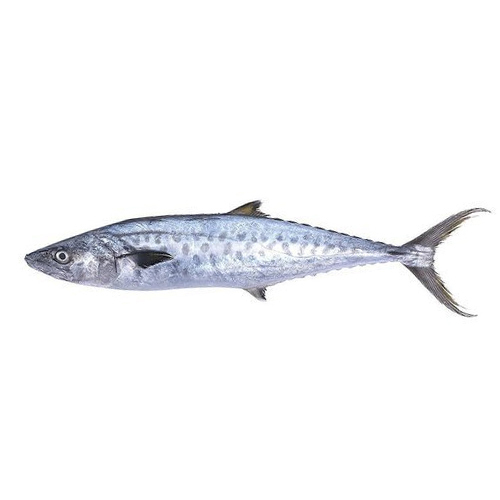Surmai: (18, 198, 490, 323)
